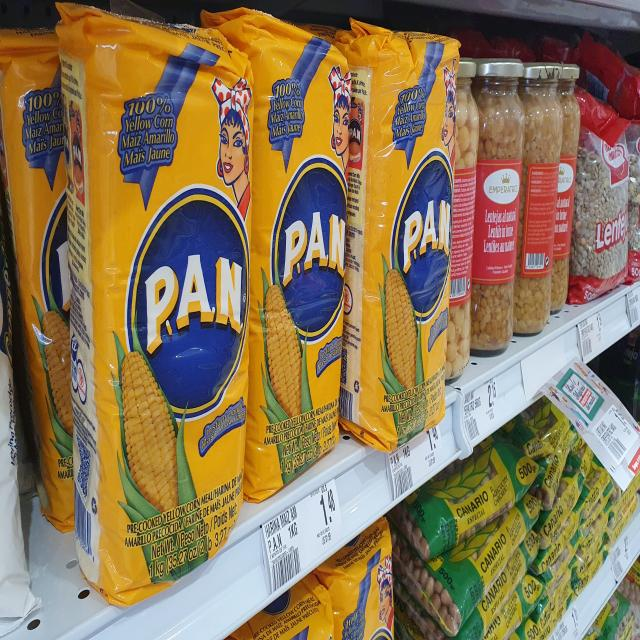Arina_pan: (59, 1, 249, 611), (204, 9, 344, 504), (342, 27, 461, 450)
